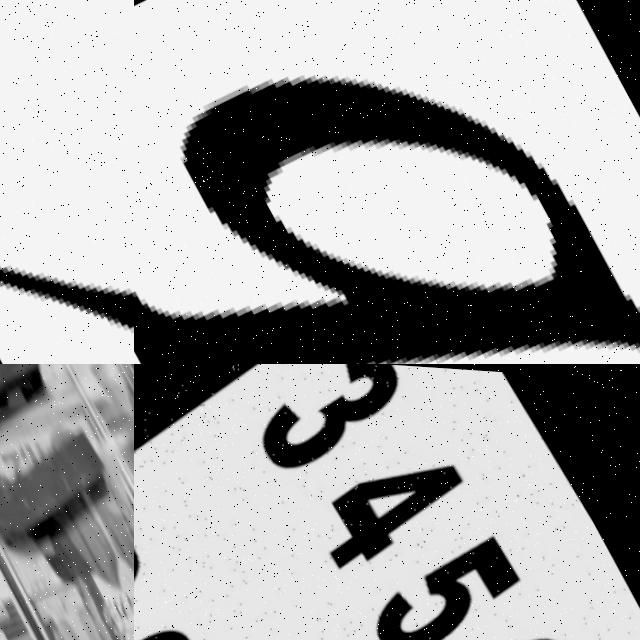2: (0, 8, 134, 364)
3: (221, 364, 453, 513)
4: (274, 397, 505, 598)
5: (326, 479, 573, 640)
6: (384, 567, 639, 640)
8: (134, 484, 190, 640)
Q: (134, 0, 640, 364)
U: (0, 364, 120, 556)
